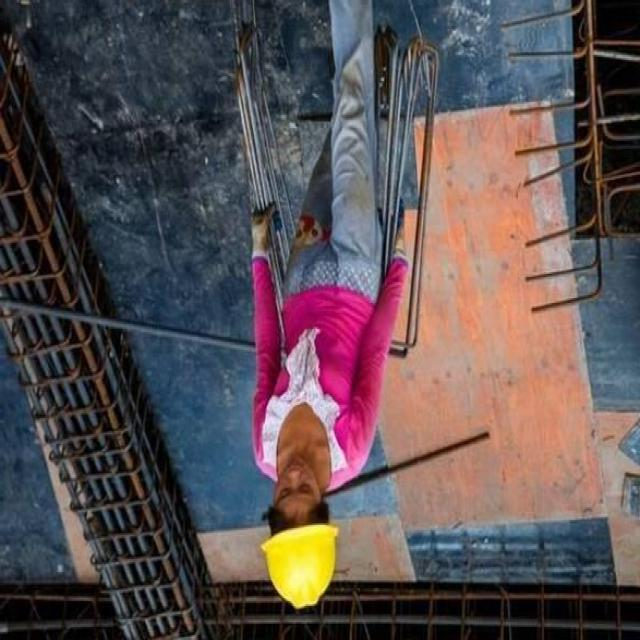safetyhelmet: (230, 452, 366, 606)
